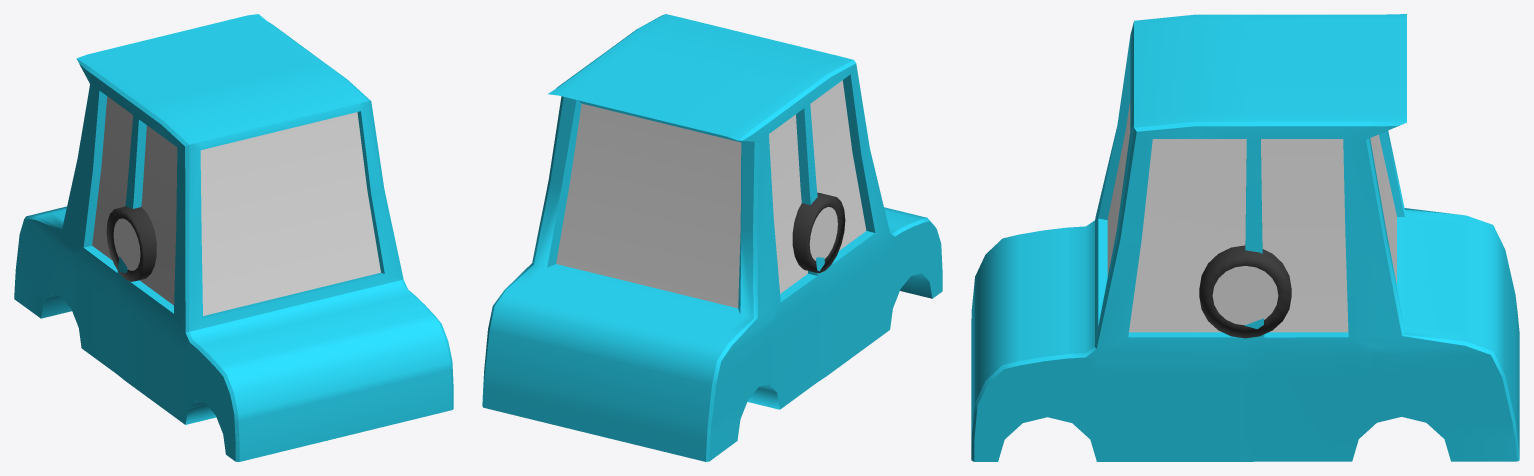
Rendered from car 5.fbx.
3 renders of one model, left to right at view 1: azimuth 30°, elevation 25°; view 2: azimuth 150°, elevation 25°; view 3: azimuth 270°, elevation 25°, orthographic. The views are drawn at different scales.
Parts seen in each view (by area): view 1: car_5_chasis, car_5_back_wheel, car_5_right_wheel; view 2: car_5_chasis, car_5_back_wheel, car_5_right_wheel; view 3: car_5_chasis, car_5_left_wheel.
Part boxes in pixels (x1,y1,x2,y2): car_5_chasis: [14, 14, 453, 461]; car_5_back_wheel: [106, 206, 151, 281]; car_5_right_wheel: [131, 207, 156, 280]; car_5_chasis: [482, 14, 942, 461]; car_5_back_wheel: [792, 193, 845, 273]; car_5_right_wheel: [794, 192, 832, 271]; car_5_chasis: [971, 14, 1519, 461]; car_5_left_wheel: [1199, 245, 1291, 338].
Size of the model in its own units: 103 by 122 by 183.
